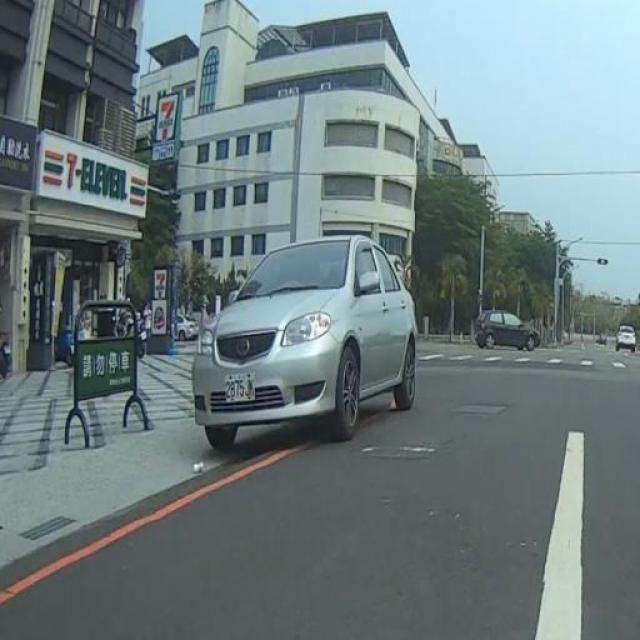illegalparking: (125, 227, 459, 479)
